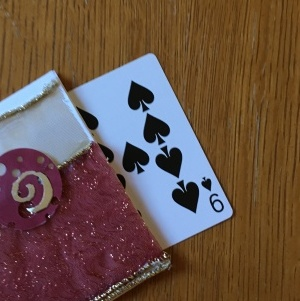card: (65, 53, 234, 248)
